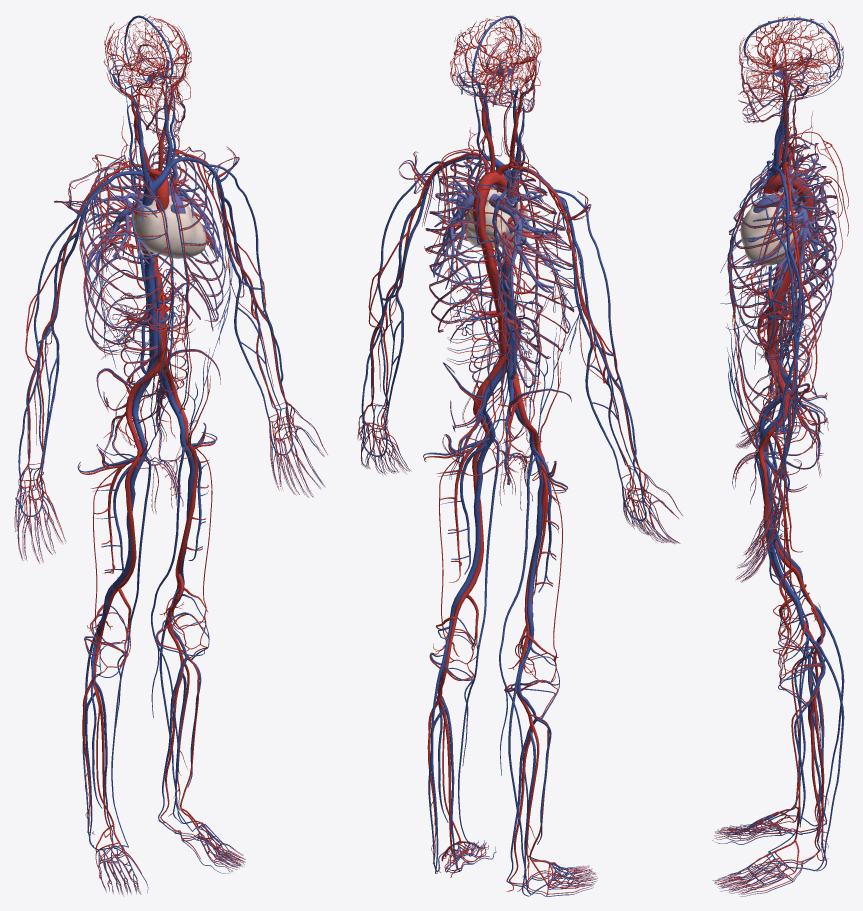
Rendered from adult_male.cardiovascular.LOD2.glb.
The picture shows the model from 3 angles, left to right: view 1: azimuth 30°, elevation 25°; view 2: azimuth 150°, elevation 25°; view 3: azimuth 270°, elevation 25°; orthographic projection. The views are drawn at different scales.
Parts seen in each view (by area): view 1: ADULT.MALE.CARDIOVASCULAR.PERICARDIUM, ADULT.MALE.CARDIOVASCULAR.RIGHT_SUPERIOR_INTERCOSTAL_VEIN, ADULT.MALE.CARDIOVASCULAR.POSTERIOR_INTERCOSTAL_ARTERIES.R, ADULT.MALE.CARDIOVASCULAR.LEFT_SUPERIOR_INTERCOSTAL_VEIN, ADULT.MALE.CARDIOVASCULAR.GREAT_SAPHENOUS_VEIN.L, ADULT.MALE.CARDIOVASCULAR.GREAT_SAPHENOUS_VEIN.R, ADULT.MALE.CARDIOVASCULAR.FEMORAL_ARTERY.R, ADULT.MALE.CARDIOVASCULAR.POSTERIOR_INTERCOSTAL_ARTERIES.L, ADULT.MALE.CARDIOVASCULAR.CEPHALIC_VEIN.R, ADULT.MALE.CARDIOVASCULAR.FEMORAL_ARTERY.L, ADULT.MALE.CARDIOVASCULAR.CEPHALIC_VEIN.L, ADULT.MALE.CARDIOVASCULAR.FEMORAL_VEIN.R (+1 smaller); view 2: ADULT.MALE.CARDIOVASCULAR.POSTERIOR_INTERCOSTAL_ARTERIES.R, ADULT.MALE.CARDIOVASCULAR.RIGHT_SUPERIOR_INTERCOSTAL_VEIN, ADULT.MALE.CARDIOVASCULAR.LEFT_SUPERIOR_INTERCOSTAL_VEIN, ADULT.MALE.CARDIOVASCULAR.POSTERIOR_INTERCOSTAL_ARTERIES.L, ADULT.MALE.CARDIOVASCULAR.GREAT_SAPHENOUS_VEIN.L, ADULT.MALE.CARDIOVASCULAR.PERICARDIUM, ADULT.MALE.CARDIOVASCULAR.GREAT_SAPHENOUS_VEIN.R, ADULT.MALE.CARDIOVASCULAR.FEMORAL_VEIN.L, ADULT.MALE.CARDIOVASCULAR.FEMORAL_VEIN.R, ADULT.MALE.CARDIOVASCULAR.CEPHALIC_VEIN.R, ADULT.MALE.CARDIOVASCULAR.THORACIC_AORTA, ADULT.MALE.CARDIOVASCULAR.BASILIC_VEIN.R (+5 smaller); view 3: ADULT.MALE.CARDIOVASCULAR.LEFT_SUPERIOR_INTERCOSTAL_VEIN, ADULT.MALE.CARDIOVASCULAR.PERICARDIUM, ADULT.MALE.CARDIOVASCULAR.POSTERIOR_INTERCOSTAL_ARTERIES.L, ADULT.MALE.CARDIOVASCULAR.CEPHALIC_VEIN.L, ADULT.MALE.CARDIOVASCULAR.RIGHT_SUPERIOR_INTERCOSTAL_VEIN, ADULT.MALE.CARDIOVASCULAR.SMALL_SAPHENOUS_VEIN.L, ADULT.MALE.CARDIOVASCULAR.FEMORAL_ARTERY.L, ADULT.MALE.CARDIOVASCULAR.ABDOMINAL_AORTA, ADULT.MALE.CARDIOVASCULAR.GREAT_SAPHENOUS_VEIN.R, ADULT.MALE.CARDIOVASCULAR.SMALL_SAPHENOUS_VEIN.R, ADULT.MALE.CARDIOVASCULAR.GREAT_SAPHENOUS_VEIN.L, ADULT.MALE.CARDIOVASCULAR.POSTERIOR_INTERCOSTAL_ARTERIES.R (+22 smaller).
Part boxes in pixels (x1,y1,x2,y2): ADULT.MALE.CARDIOVASCULAR.PERICARDIUM: (133,195,206,258); ADULT.MALE.CARDIOVASCULAR.RIGHT_SUPERIOR_INTERCOSTAL_VEIN: (81,155,172,351); ADULT.MALE.CARDIOVASCULAR.POSTERIOR_INTERCOSTAL_ARTERIES.R: (79,163,169,354); ADULT.MALE.CARDIOVASCULAR.LEFT_SUPERIOR_INTERCOSTAL_VEIN: (144,147,225,330); ADULT.MALE.CARDIOVASCULAR.GREAT_SAPHENOUS_VEIN.L: (151,446,192,831); ADULT.MALE.CARDIOVASCULAR.GREAT_SAPHENOUS_VEIN.R: (111,456,151,846); ADULT.MALE.CARDIOVASCULAR.FEMORAL_ARTERY.R: (115,431,142,590); ADULT.MALE.CARDIOVASCULAR.POSTERIOR_INTERCOSTAL_ARTERIES.L: (149,153,225,331); ADULT.MALE.CARDIOVASCULAR.CEPHALIC_VEIN.R: (18,187,101,488); ADULT.MALE.CARDIOVASCULAR.FEMORAL_ARTERY.L: (175,419,198,575); ADULT.MALE.CARDIOVASCULAR.CEPHALIC_VEIN.L: (202,162,289,422); ADULT.MALE.CARDIOVASCULAR.FEMORAL_VEIN.R: (112,438,147,588); ADULT.MALE.CARDIOVASCULAR.POSTERIOR_INTERCOSTAL_ARTERIES.R: (478,187,574,358); ADULT.MALE.CARDIOVASCULAR.RIGHT_SUPERIOR_INTERCOSTAL_VEIN: (493,170,574,357); ADULT.MALE.CARDIOVASCULAR.LEFT_SUPERIOR_INTERCOSTAL_VEIN: (425,156,502,331); ADULT.MALE.CARDIOVASCULAR.POSTERIOR_INTERCOSTAL_ARTERIES.L: (425,177,501,332); ADULT.MALE.CARDIOVASCULAR.GREAT_SAPHENOUS_VEIN.L: (458,439,499,845); ADULT.MALE.CARDIOVASCULAR.PERICARDIUM: (464,187,529,251); ADULT.MALE.CARDIOVASCULAR.GREAT_SAPHENOUS_VEIN.R: (499,451,539,859); ADULT.MALE.CARDIOVASCULAR.FEMORAL_VEIN.L: (458,423,495,594); ADULT.MALE.CARDIOVASCULAR.FEMORAL_VEIN.R: (527,435,543,610); ADULT.MALE.CARDIOVASCULAR.CEPHALIC_VEIN.R: (554,189,643,496); ADULT.MALE.CARDIOVASCULAR.THORACIC_AORTA: (472,196,497,275); ADULT.MALE.CARDIOVASCULAR.BASILIC_VEIN.R: (572,238,622,483); ADULT.MALE.CARDIOVASCULAR.LEFT_SUPERIOR_INTERCOSTAL_VEIN: (729,163,836,358); ADULT.MALE.CARDIOVASCULAR.PERICARDIUM: (740,190,800,265); ADULT.MALE.CARDIOVASCULAR.POSTERIOR_INTERCOSTAL_ARTERIES.L: (729,175,836,359); ADULT.MALE.CARDIOVASCULAR.CEPHALIC_VEIN.L: (774,197,796,519); ADULT.MALE.CARDIOVASCULAR.RIGHT_SUPERIOR_INTERCOSTAL_VEIN: (729,144,836,304); ADULT.MALE.CARDIOVASCULAR.SMALL_SAPHENOUS_VEIN.L: (803,640,844,871); ADULT.MALE.CARDIOVASCULAR.FEMORAL_ARTERY.L: (759,431,793,601); ADULT.MALE.CARDIOVASCULAR.ABDOMINAL_AORTA: (764,266,793,354); ADULT.MALE.CARDIOVASCULAR.GREAT_SAPHENOUS_VEIN.R: (755,432,820,820); ADULT.MALE.CARDIOVASCULAR.SMALL_SAPHENOUS_VEIN.R: (803,604,844,826); ADULT.MALE.CARDIOVASCULAR.GREAT_SAPHENOUS_VEIN.L: (755,452,820,851); ADULT.MALE.CARDIOVASCULAR.POSTERIOR_INTERCOSTAL_ARTERIES.R: (729,153,836,308).
Size of the model in its own units: 0.6639 by 1.7 by 0.2489.
